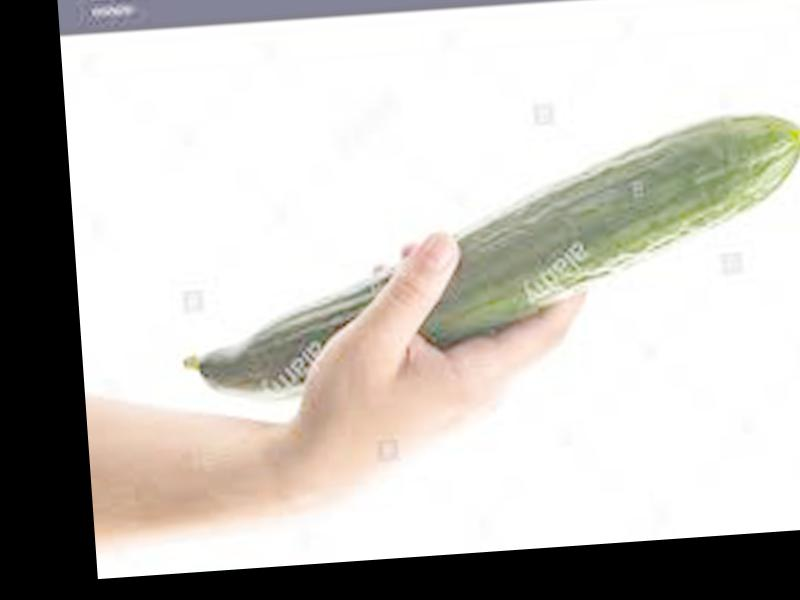Cucumber: (165, 109, 800, 406)
